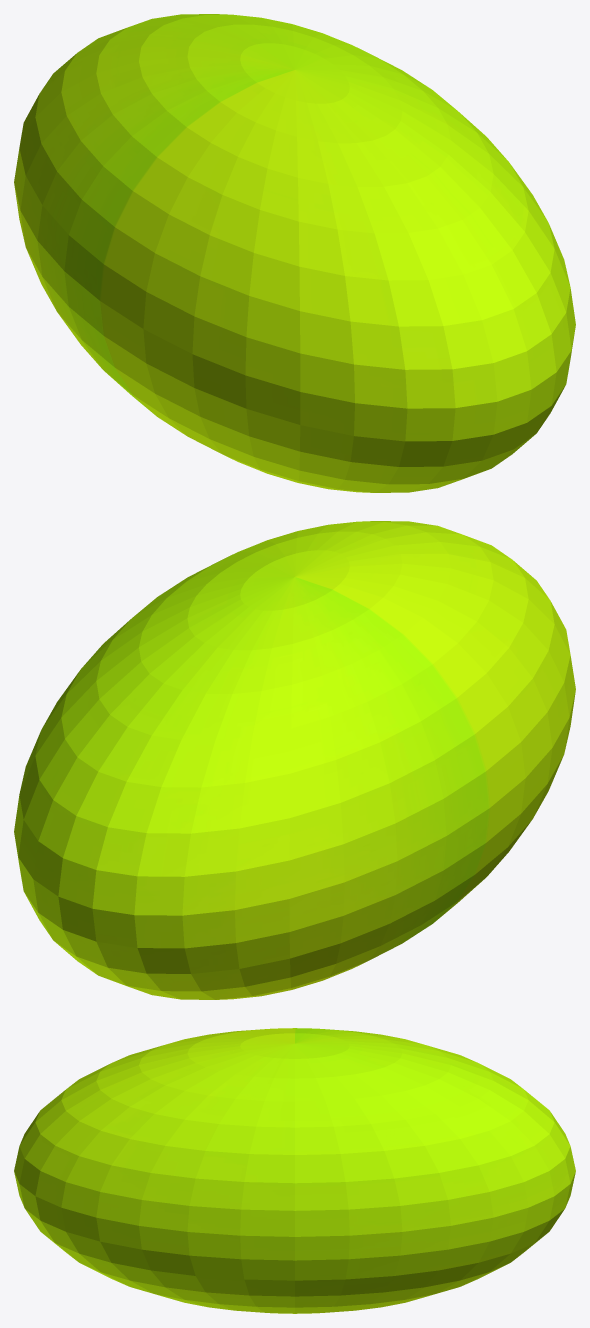
File: Luciernaga.obj
The picture shows the model from 3 angles, top to bottom: view 1: azimuth 30°, elevation 25°; view 2: azimuth 150°, elevation 25°; view 3: azimuth 270°, elevation 25°; orthographic projection. The views are drawn at different scales.
Visible parts, largest first — view 1: Esfera; view 2: Esfera; view 3: Esfera.
Boxes of the visible parts, box(x1,y1,x2,y2) form: Esfera: box(14, 14, 575, 492); Esfera: box(14, 521, 575, 999); Esfera: box(14, 1028, 575, 1313).
Size of the model in its own units: 0.2 by 0.18 by 0.36.
